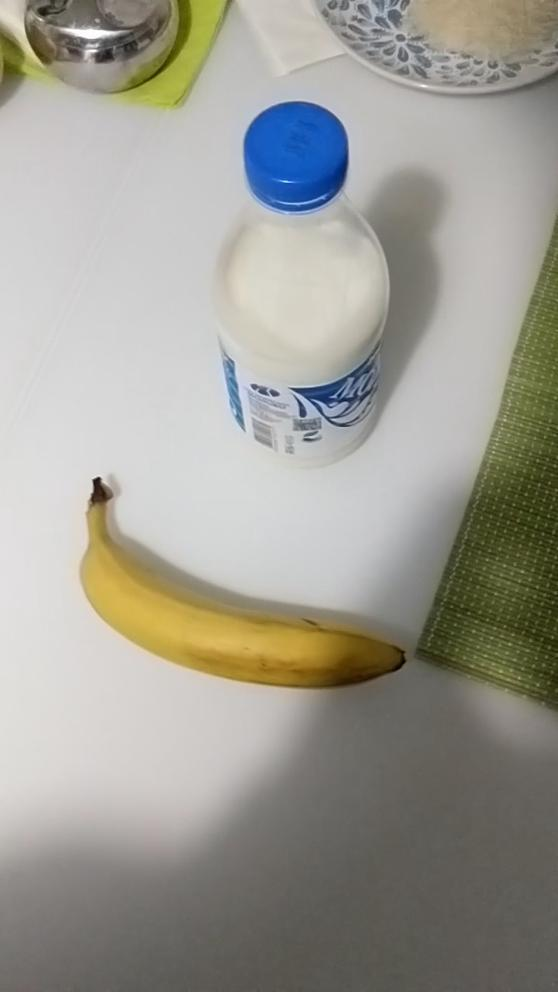banana: (60, 469, 414, 731)
milk: (198, 96, 418, 469)
